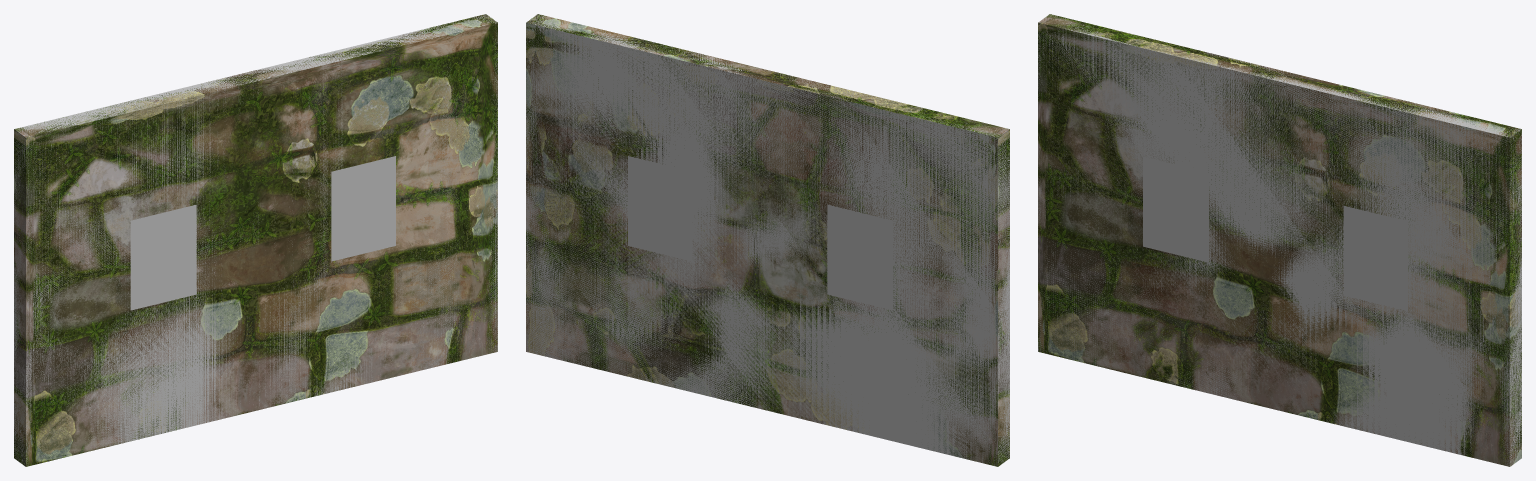
Rendered from SM_WallWindow02.fbx.
3 renders of one model, left to right at view 1: azimuth 30°, elevation 25°; view 2: azimuth 150°, elevation 25°; view 3: azimuth 330°, elevation 25°, orthographic.
Visible parts, largest first — view 1: SM_WallWindow02, SM_WallWindow02_ConvexHulls; view 2: SM_WallWindow02_ConvexHulls, SM_WallWindow02; view 3: SM_WallWindow02, SM_WallWindow02_ConvexHulls.
Boxes of the visible parts, x1,y1,x2,y2 form: SM_WallWindow02: (14, 14, 497, 466); SM_WallWindow02_ConvexHulls: (14, 14, 497, 465); SM_WallWindow02_ConvexHulls: (526, 14, 1009, 466); SM_WallWindow02: (526, 14, 1009, 466); SM_WallWindow02: (1038, 14, 1521, 466); SM_WallWindow02_ConvexHulls: (1038, 14, 1521, 466).
Size of the model in its own units: 600 by 26 by 400.
Materials: 2 (1 with a texture image).
